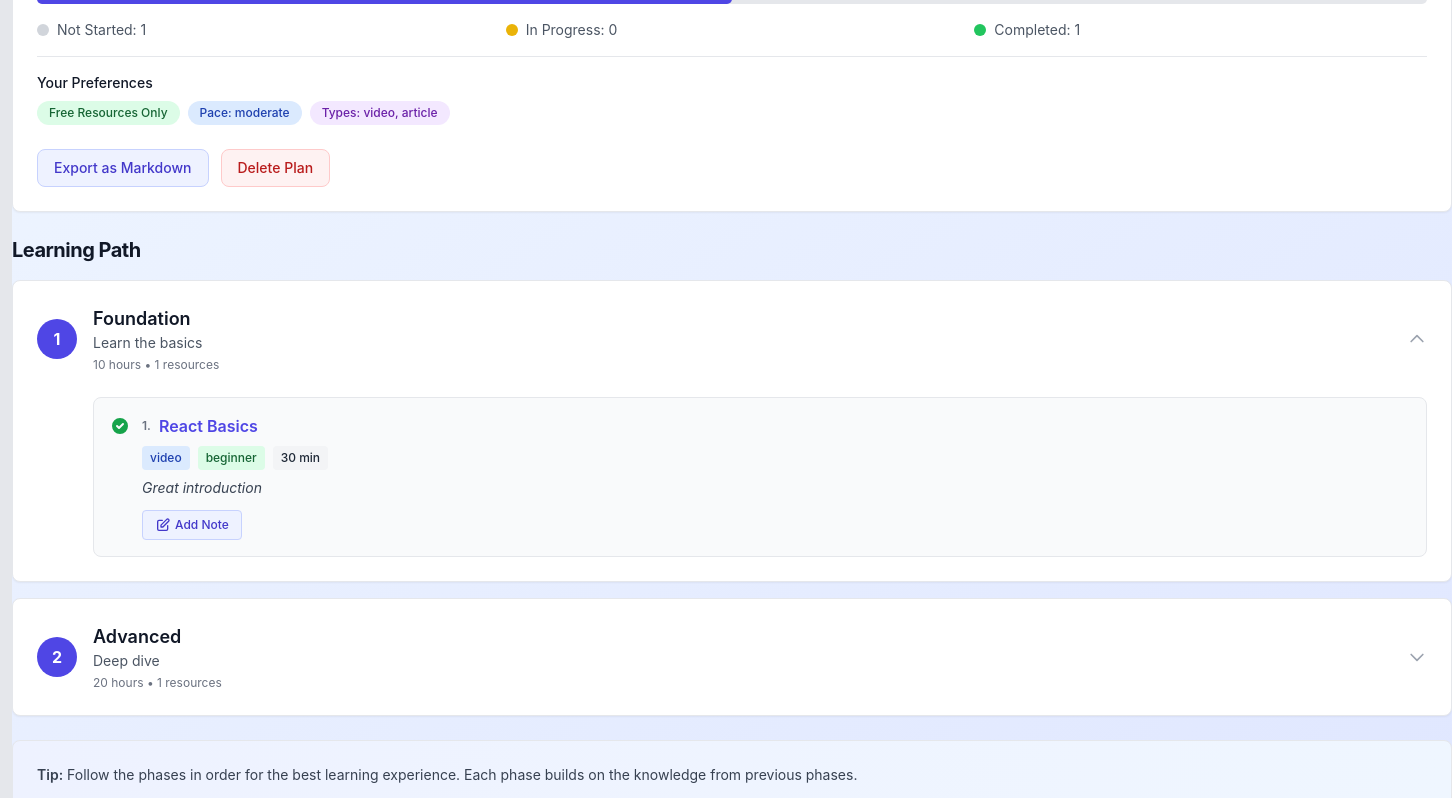
Test: PlanViewer › phase accordion expands and collapses
(page scrolled)
Expected: the heading "Foundation" is shown, [93,308,191,329]
Expected: the link "React Basics" is shown, [159,414,258,438]
Click the button "Advanced": (57, 657) [37,623,1427,691]
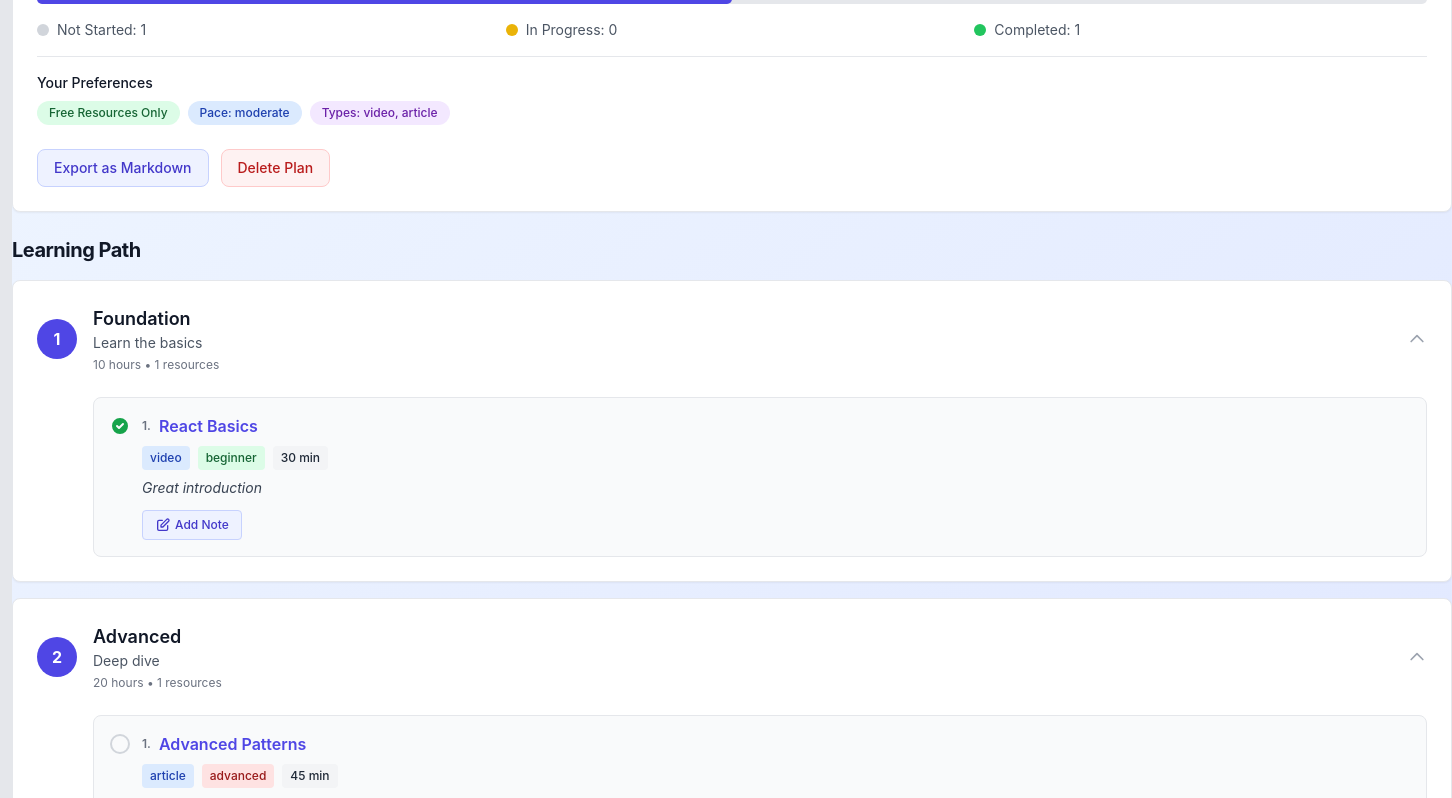
Expected: the link "Advanced Patterns" is shown, [159,732,306,756]
